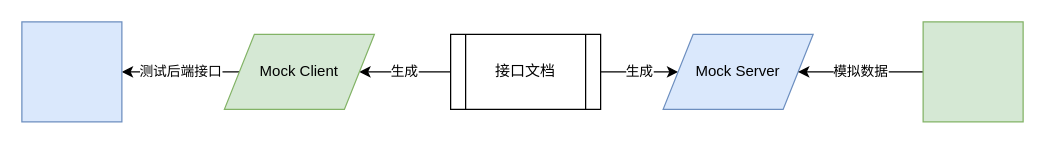
Image size: 1045x144. Some labels were removed from this diagram. The centre of each missing label's shape, as x and y in pixels:
"前端" goes at point 972,71.
"后端" goes at point 71,71.
